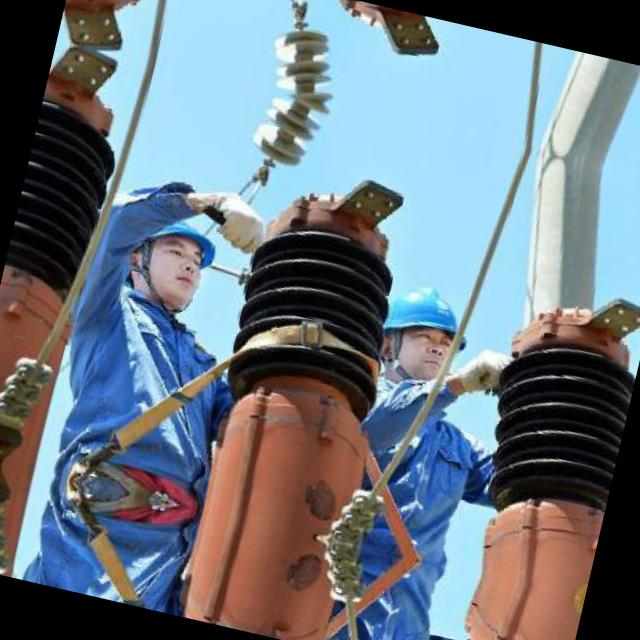helmet: (109, 182, 235, 318), (365, 268, 478, 396)
